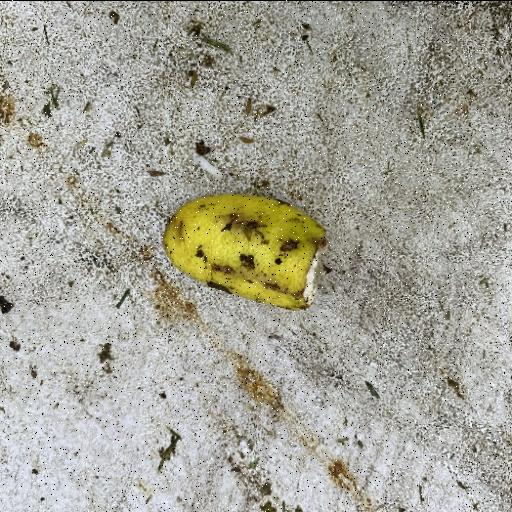Waste: (162, 192, 328, 312)
